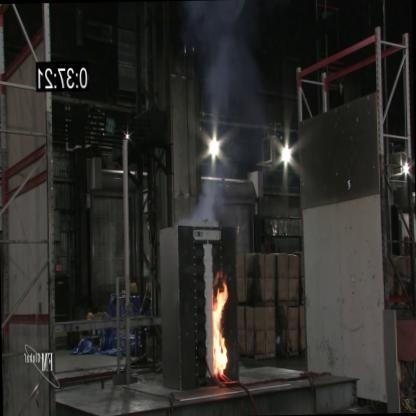fire: (206, 276, 235, 376)
